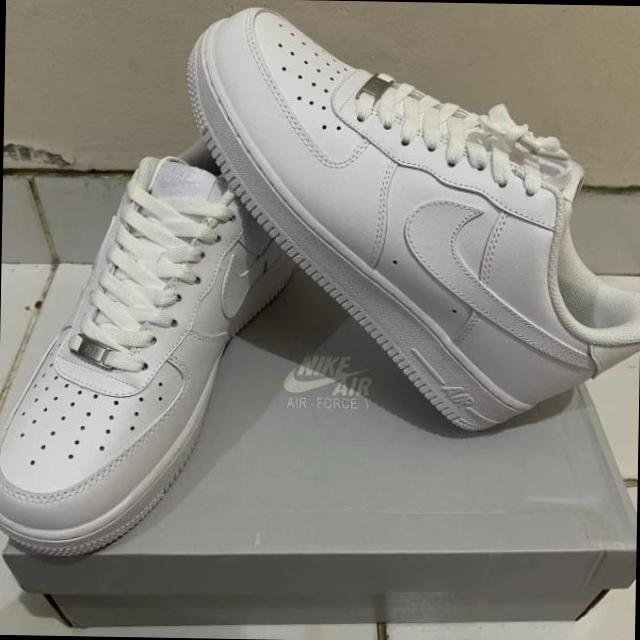nike_original_airforce: (165, 6, 640, 433), (0, 122, 325, 561)
